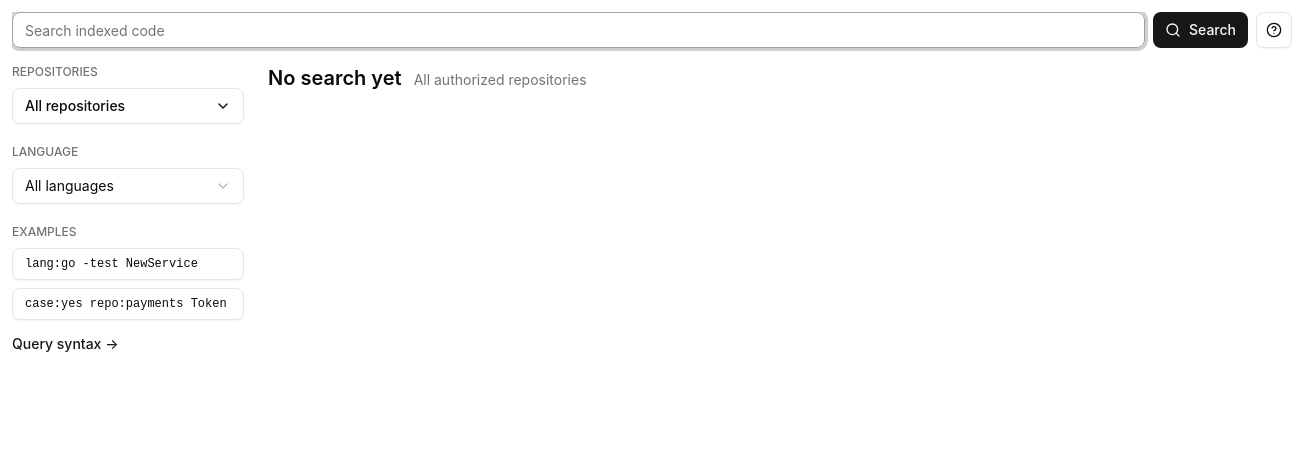
it: SearchPage › sends only the checked repositories and prefixes the language
Click the button "All repositories" at (128, 106), box [12, 88, 244, 124]
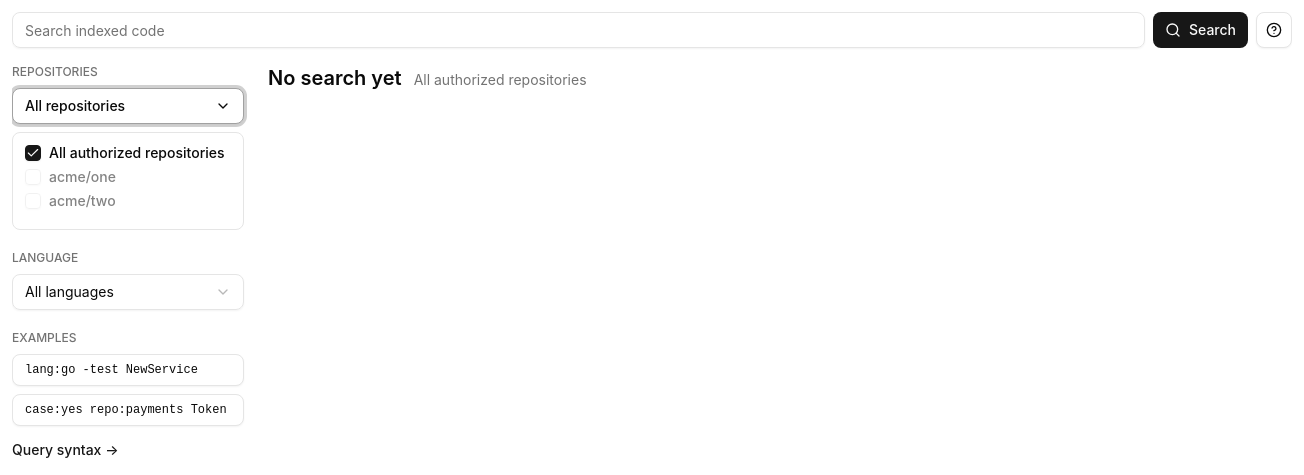
Click the 1st checkbox named "All authorized repositories" at (33, 153), box [25, 145, 41, 161]
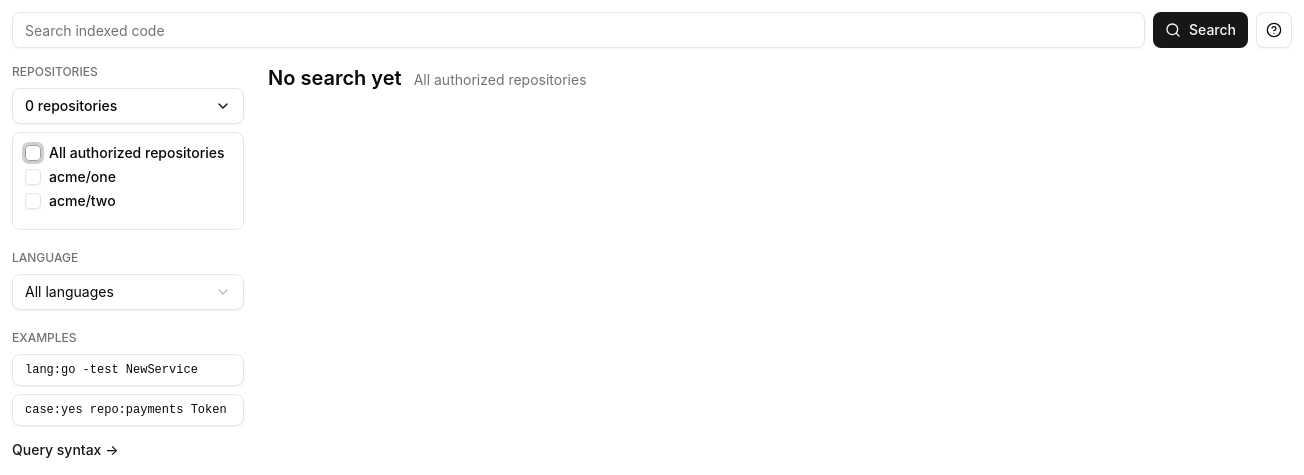
Check: the checkbox named "acme/one" next to "acme/one" is enabled, box [25, 169, 41, 185]
Click the checkbox named "acme/two" next to "acme/two" at (33, 201), box [25, 193, 41, 209]
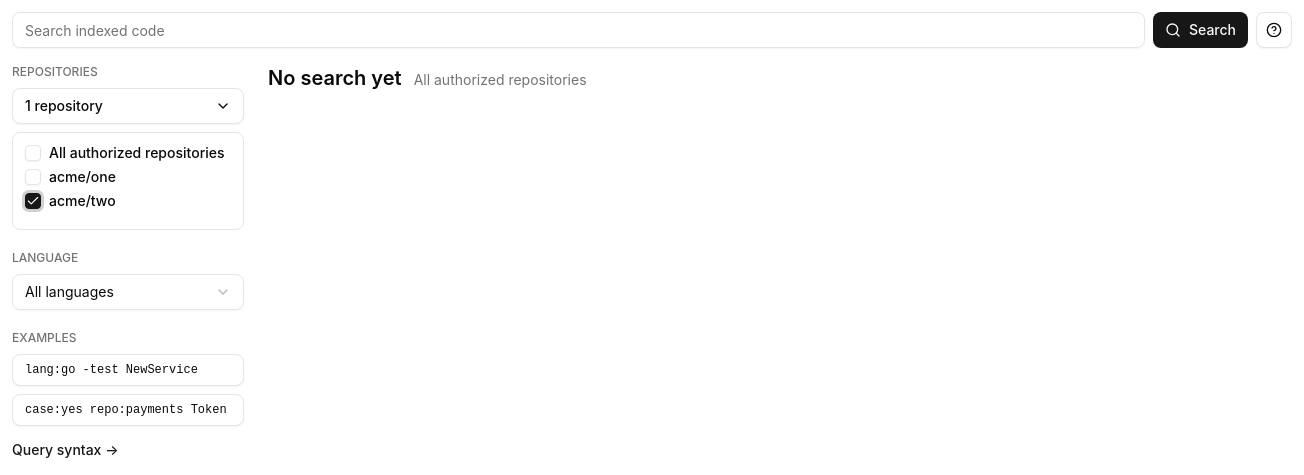
Check: the button "1 repository" is shown, box [12, 88, 244, 124]
Type "lang:go Token" into the search field named "Search code" at (578, 30), box [12, 12, 1145, 48]
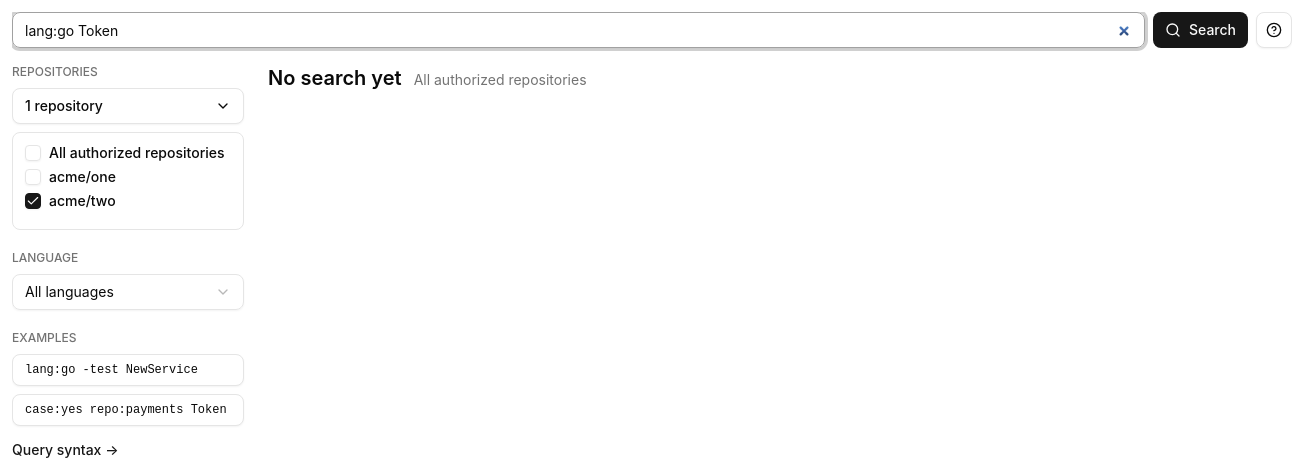
Click the button "Search" at (1200, 30), box [1153, 12, 1248, 48]
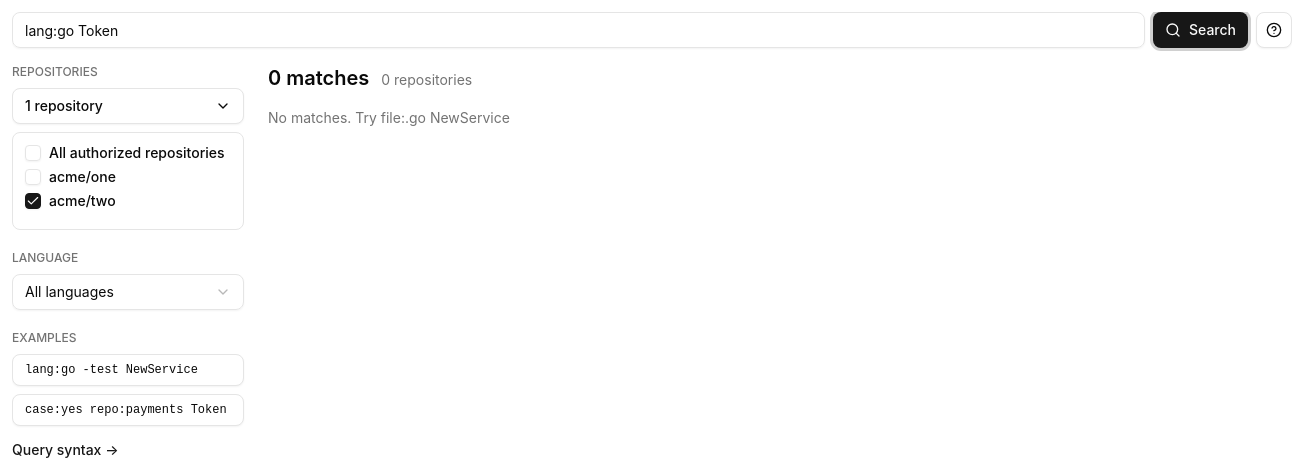
Check: the text "No matches. Try file:.go NewService" is shown, box [268, 109, 510, 126]
